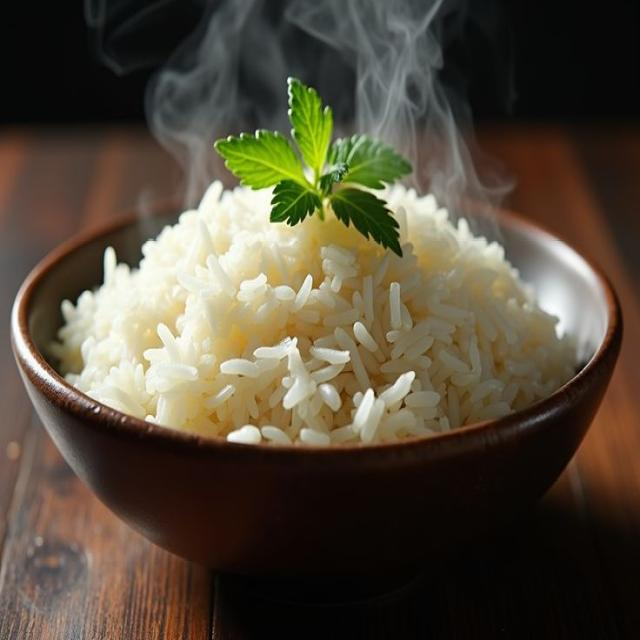rice: (54, 184, 575, 445)
